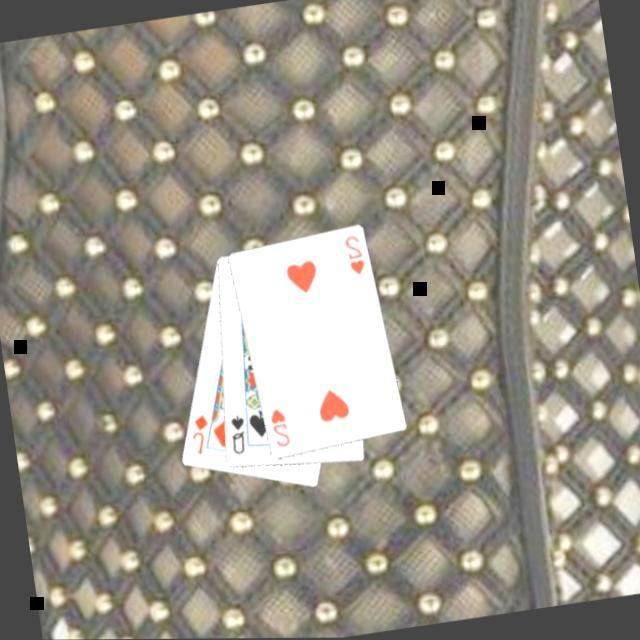2H: (339, 233, 367, 282), (264, 406, 292, 454)
JD: (184, 412, 214, 460)
QS: (222, 414, 249, 460)
